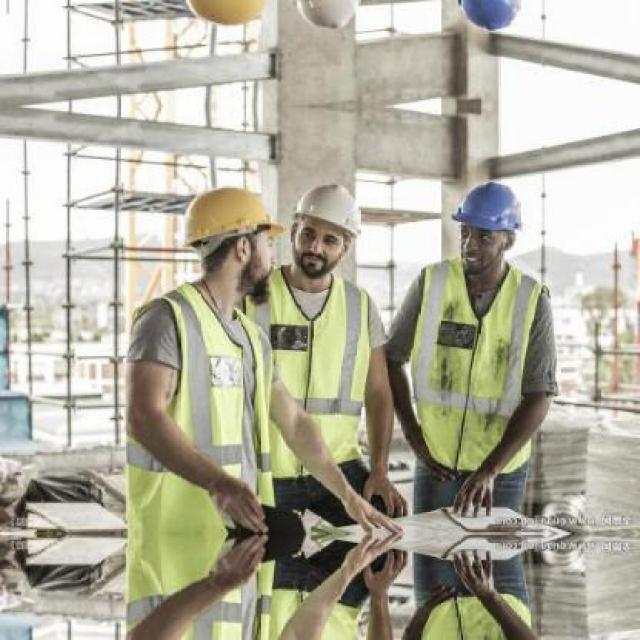Reflective-Jacket: (108, 282, 280, 518), (399, 258, 563, 486), (257, 265, 383, 481), (414, 586, 554, 640)
Safety-Helmet: (166, 179, 286, 257), (286, 174, 377, 252), (443, 174, 537, 247)
